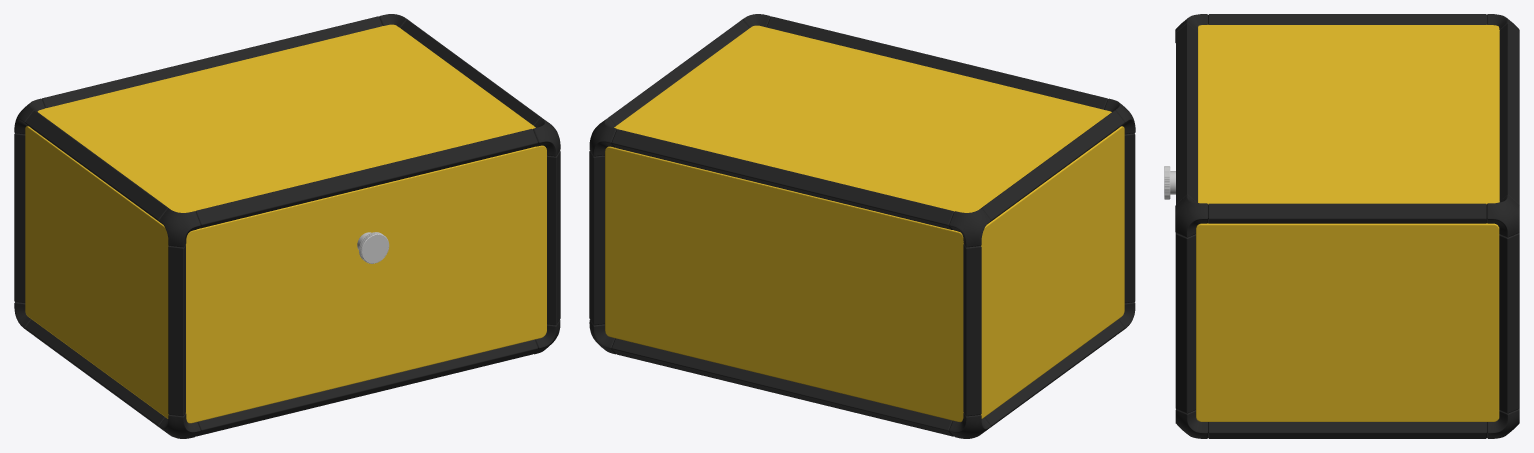
The picture shows the model from 3 angles, left to right: view 1: azimuth 30°, elevation 25°; view 2: azimuth 150°, elevation 25°; view 3: azimuth 270°, elevation 25°; orthographic projection. The views are drawn at different scales.
Parts seen in each view (by area): view 1: 479x329x229; view 2: 479x329x229; view 3: 479x329x229.
Boxes of the visible parts, x1,y1,x2,y2 form: 479x329x229: (14, 14, 560, 438); 479x329x229: (589, 14, 1135, 438); 479x329x229: (1164, 14, 1519, 438).
Bounding box in the file's own units: 0.5567 × 0.3065 × 0.4196.
